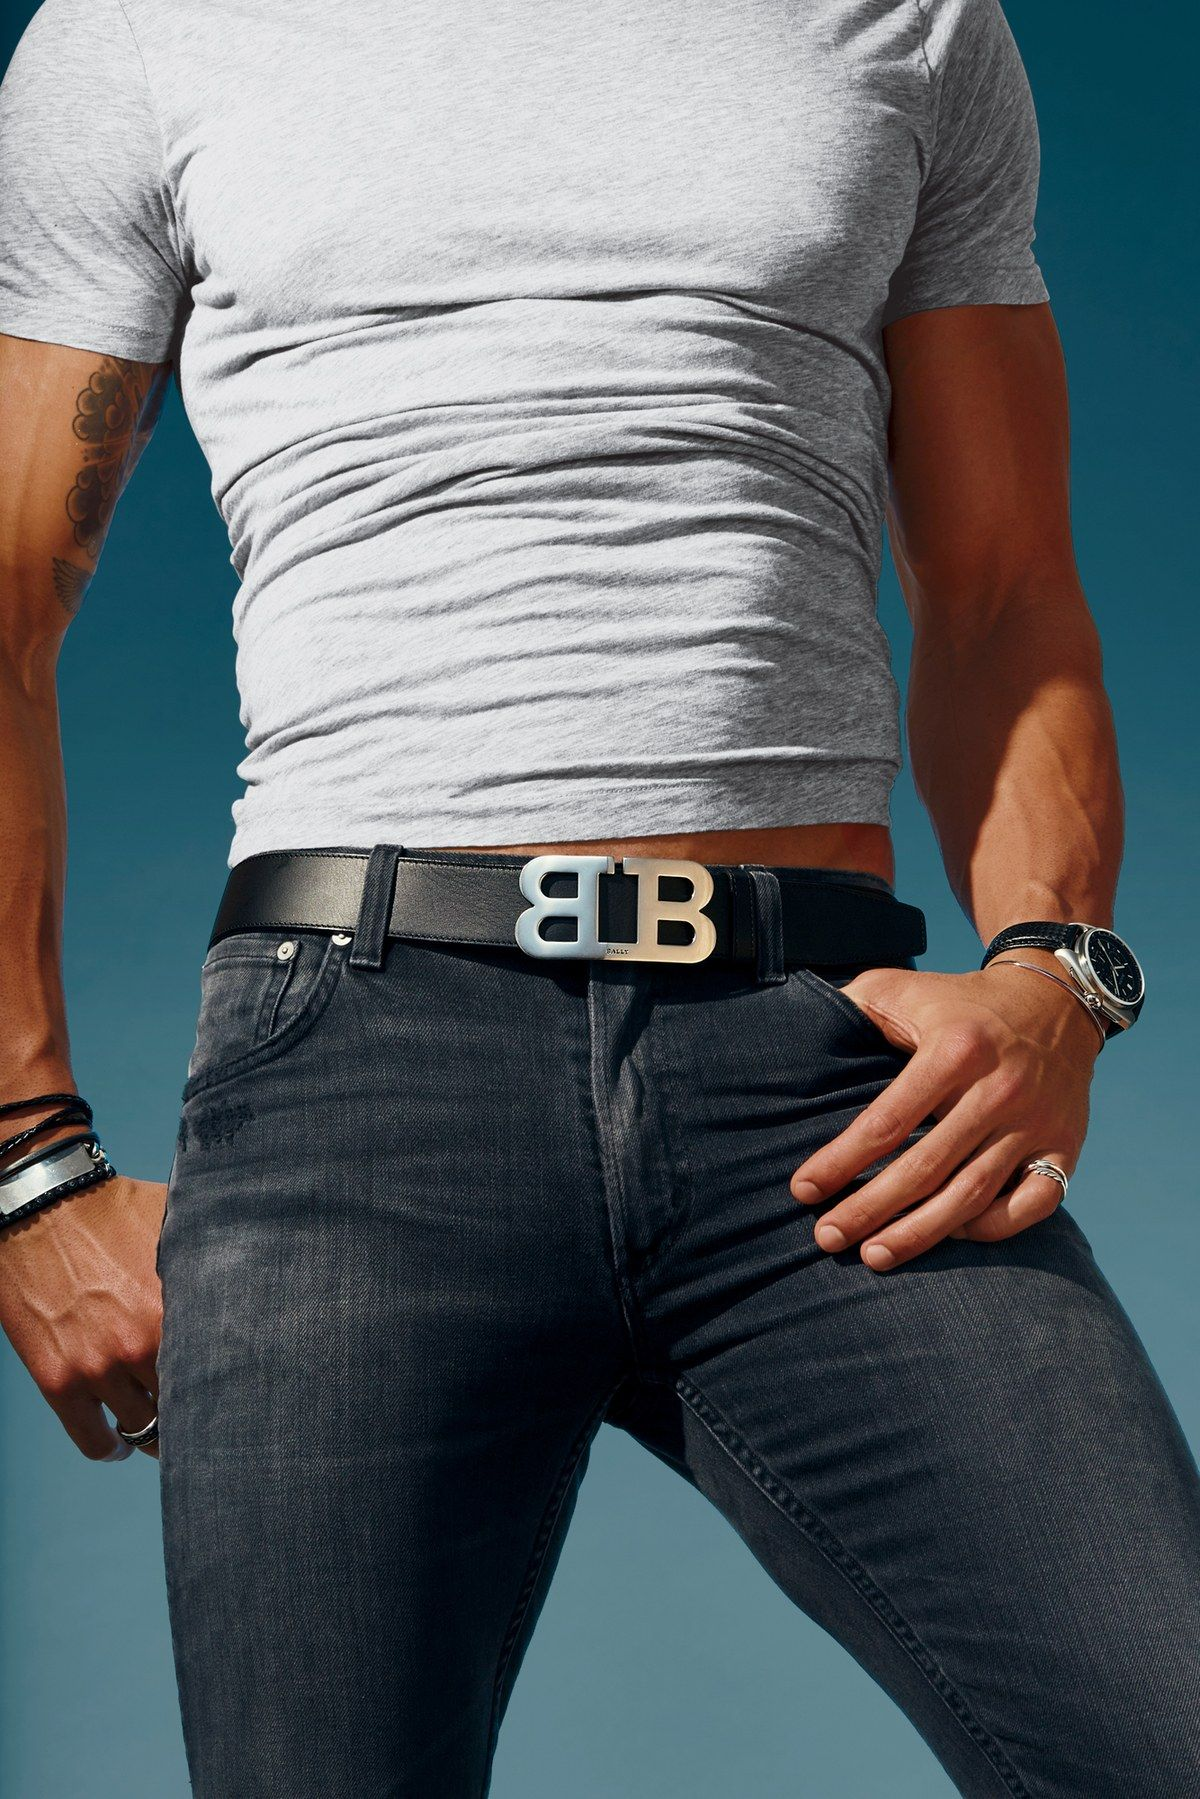C_jeans: (134, 829, 1200, 1792)
F_belt: (179, 835, 964, 1000)
